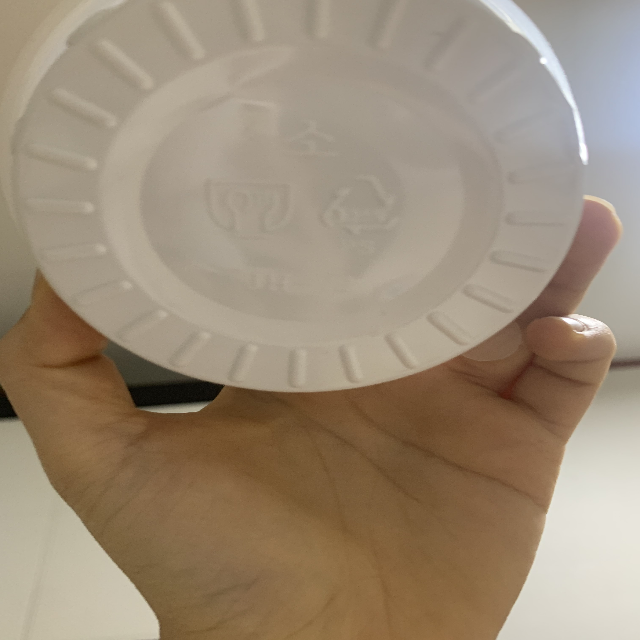ps: (316, 172, 406, 260)
